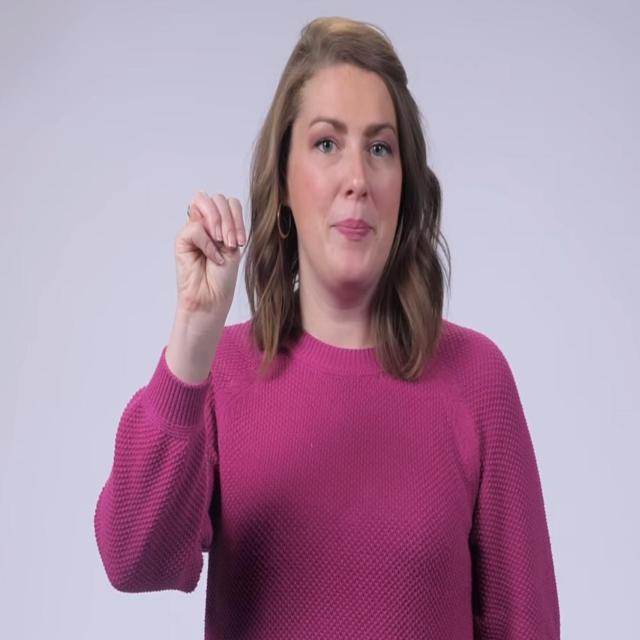M: (173, 188, 248, 314)
